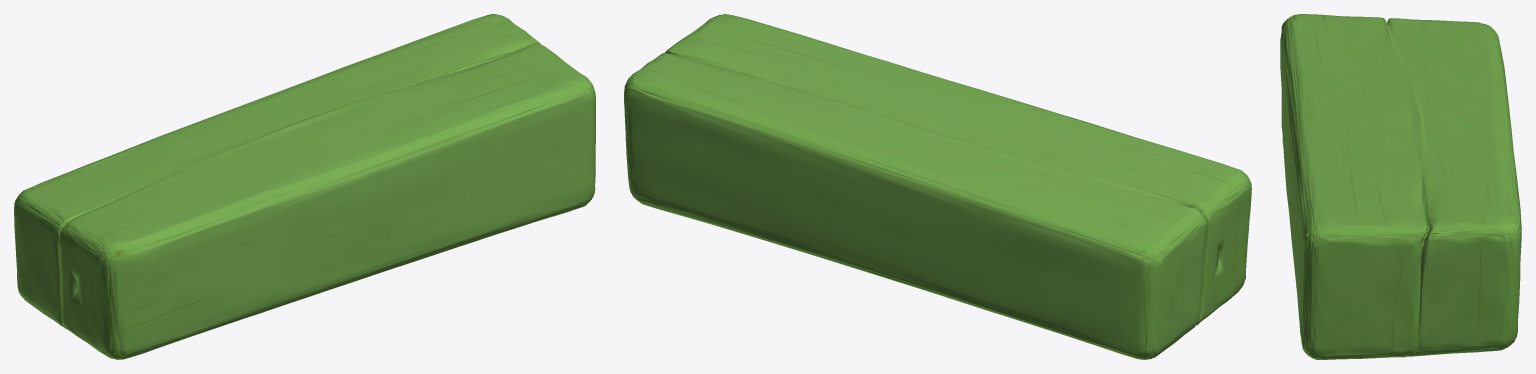
Rendered from block.glb.
3 renders of one model, left to right at view 1: azimuth 30°, elevation 25°; view 2: azimuth 150°, elevation 25°; view 3: azimuth 270°, elevation 25°, orthographic. The views are drawn at different scales.
Parts seen in each view (by area): view 1: tripo_node_b707635f-bd24-428a-a4aa-586727727693; view 2: tripo_node_b707635f-bd24-428a-a4aa-586727727693; view 3: tripo_node_b707635f-bd24-428a-a4aa-586727727693.
Boxes of the visible parts, left/top/right/bottom form: tripo_node_b707635f-bd24-428a-a4aa-586727727693: left=14, top=14, right=595, bottom=359; tripo_node_b707635f-bd24-428a-a4aa-586727727693: left=624, top=14, right=1251, bottom=359; tripo_node_b707635f-bd24-428a-a4aa-586727727693: left=1280, top=14, right=1521, bottom=359.
Size of the model in its own units: 0.998 by 0.3067 by 0.3809.
1 material, 1 textured.
